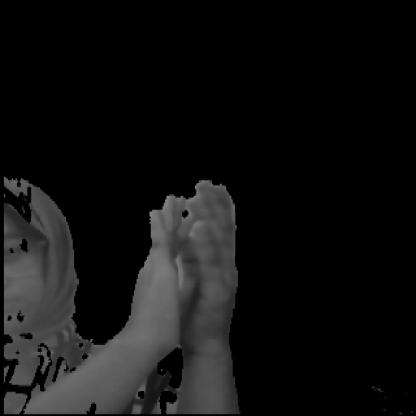clap: (103, 165, 257, 402)
